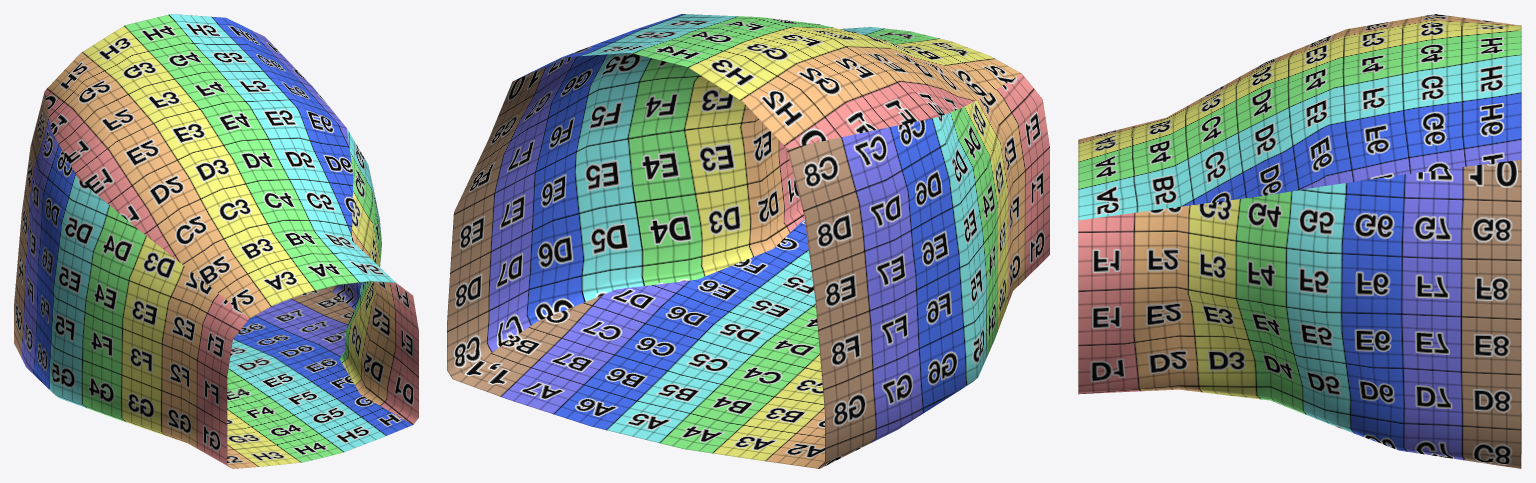
The model's file is grotte_bigToStraight.fbx.
3 views of the same model, side by side, from view 1: azimuth 30°, elevation 25°; view 2: azimuth 150°, elevation 25°; view 3: azimuth 270°, elevation 25° (orthographic). The views are drawn at different scales.
Parts seen in each view (by area): view 1: grotte_bigToStraight; view 2: grotte_bigToStraight; view 3: grotte_bigToStraight.
Boxes of the visible parts, x1=… form: grotte_bigToStraight: x1=14, y1=14, x2=418, y2=468; grotte_bigToStraight: x1=447, y1=14, x2=1049, y2=468; grotte_bigToStraight: x1=1078, y1=14, x2=1521, y2=468.
Size of the model in its own units: 811 by 690 by 800.
Materials: 1 (1 with a texture image).
